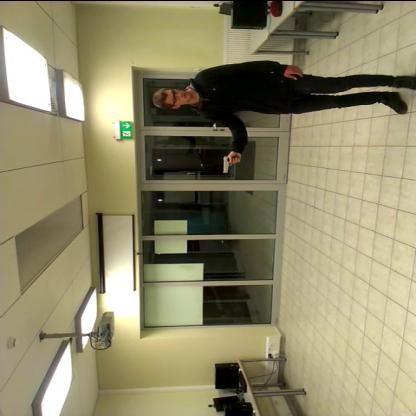Pistol: (212, 149, 249, 179)
